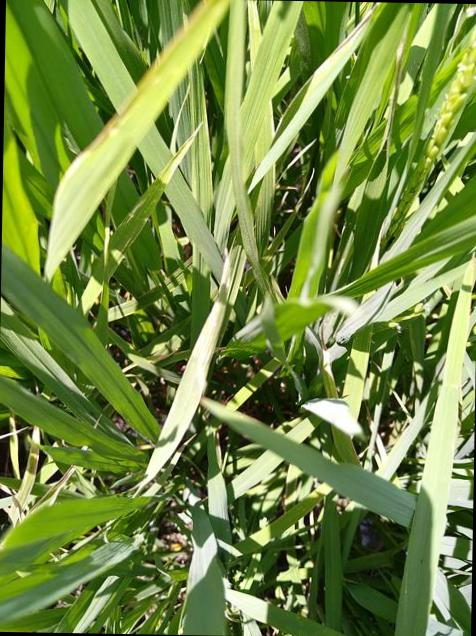Leaf Streak: (46, 0, 228, 283)
